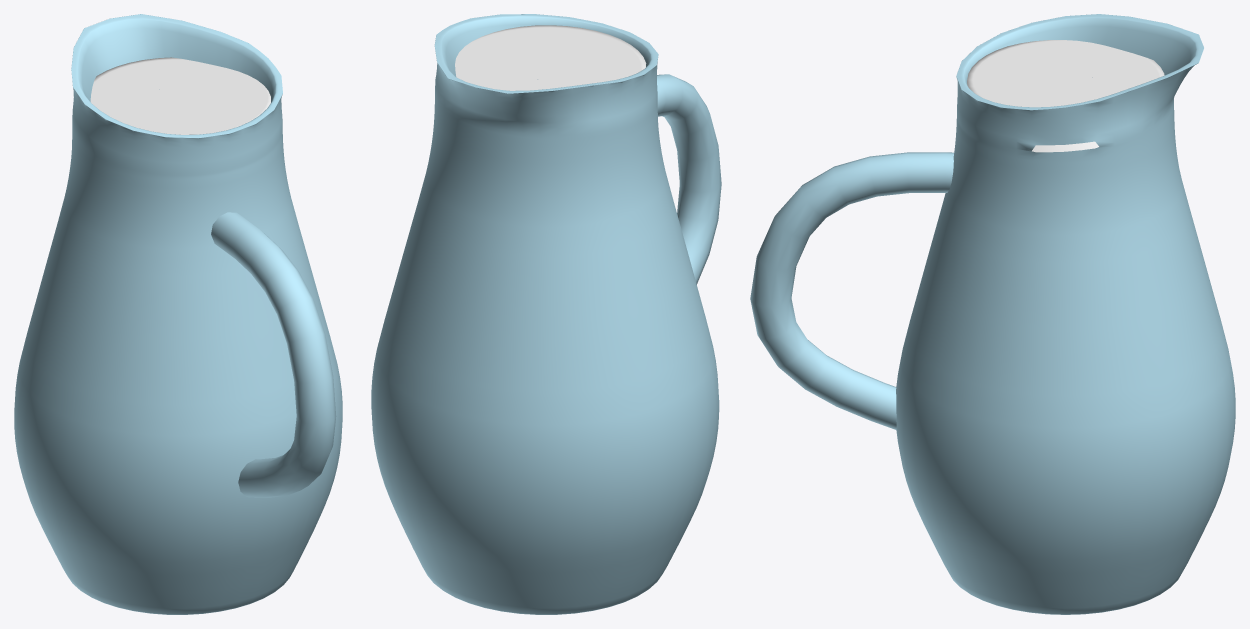
File: jug.glb
3 renders of one model, left to right at view 1: azimuth 30°, elevation 25°; view 2: azimuth 150°, elevation 25°; view 3: azimuth 270°, elevation 25°, orthographic. The views are drawn at different scales.
Visible parts, largest first — view 1: Cylinder003, Line001, Cylinder004; view 2: Cylinder003, Cylinder004, Line001; view 3: Cylinder003, Line001, Cylinder004.
Part boxes in pixels (bbox=[...]): Cylinder003: bbox=[14, 14, 342, 614]; Line001: bbox=[211, 212, 336, 497]; Cylinder004: bbox=[90, 57, 270, 134]; Cylinder003: bbox=[371, 14, 719, 614]; Cylinder004: bbox=[455, 25, 646, 90]; Line001: bbox=[657, 74, 721, 284]; Cylinder003: bbox=[896, 14, 1235, 614]; Line001: bbox=[750, 152, 953, 429]; Cylinder004: bbox=[967, 40, 1164, 152].
Size of the model in its own units: 354 by 595 by 504.
